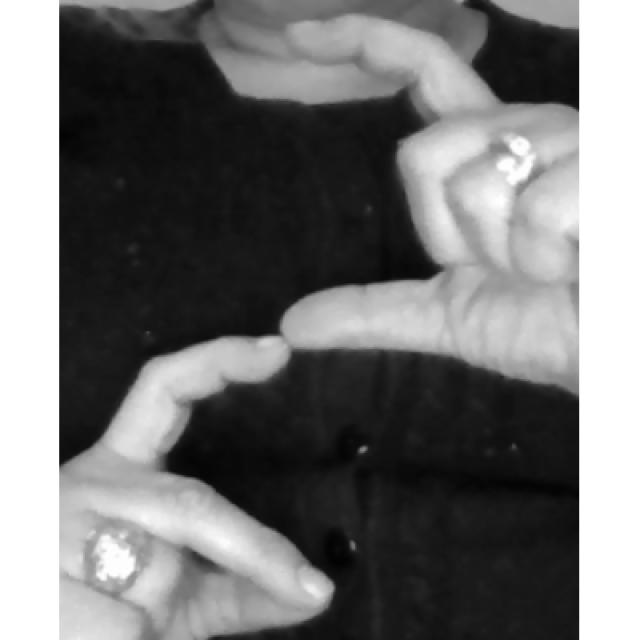S_: (60, 10, 578, 640)
